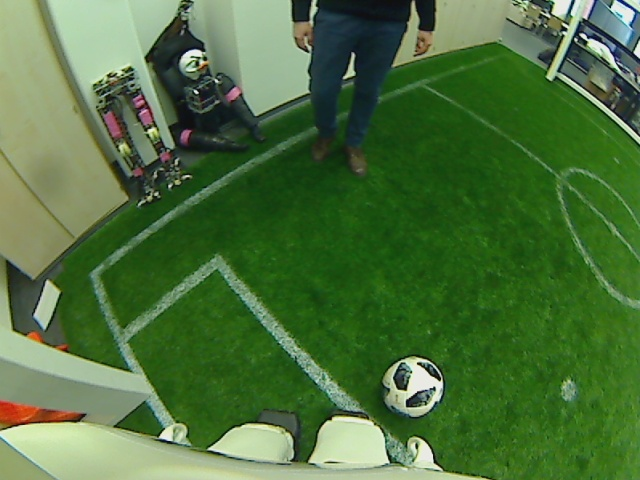ball: (378, 354, 446, 418)
